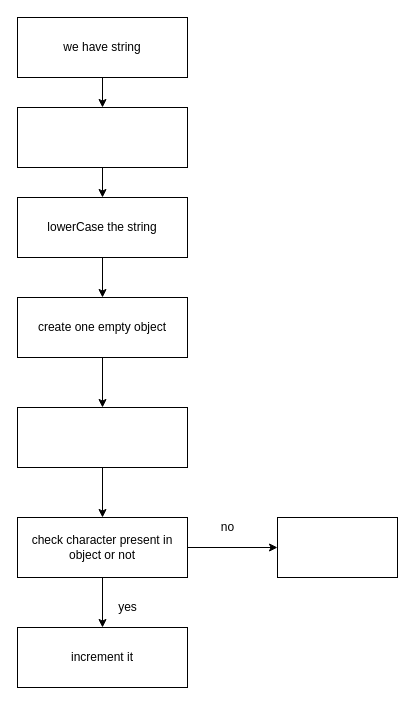
Some shapes in this 415 by 705 pixel diagram are drawn without their labels. The shapes that lost their labels are listed below. From the top down, each one's centre as x and y in pixels, then its label:
the point at 102,137: check user input is string or not
the point at 102,437: loop the string to its length
the point at 337,547: push in object
